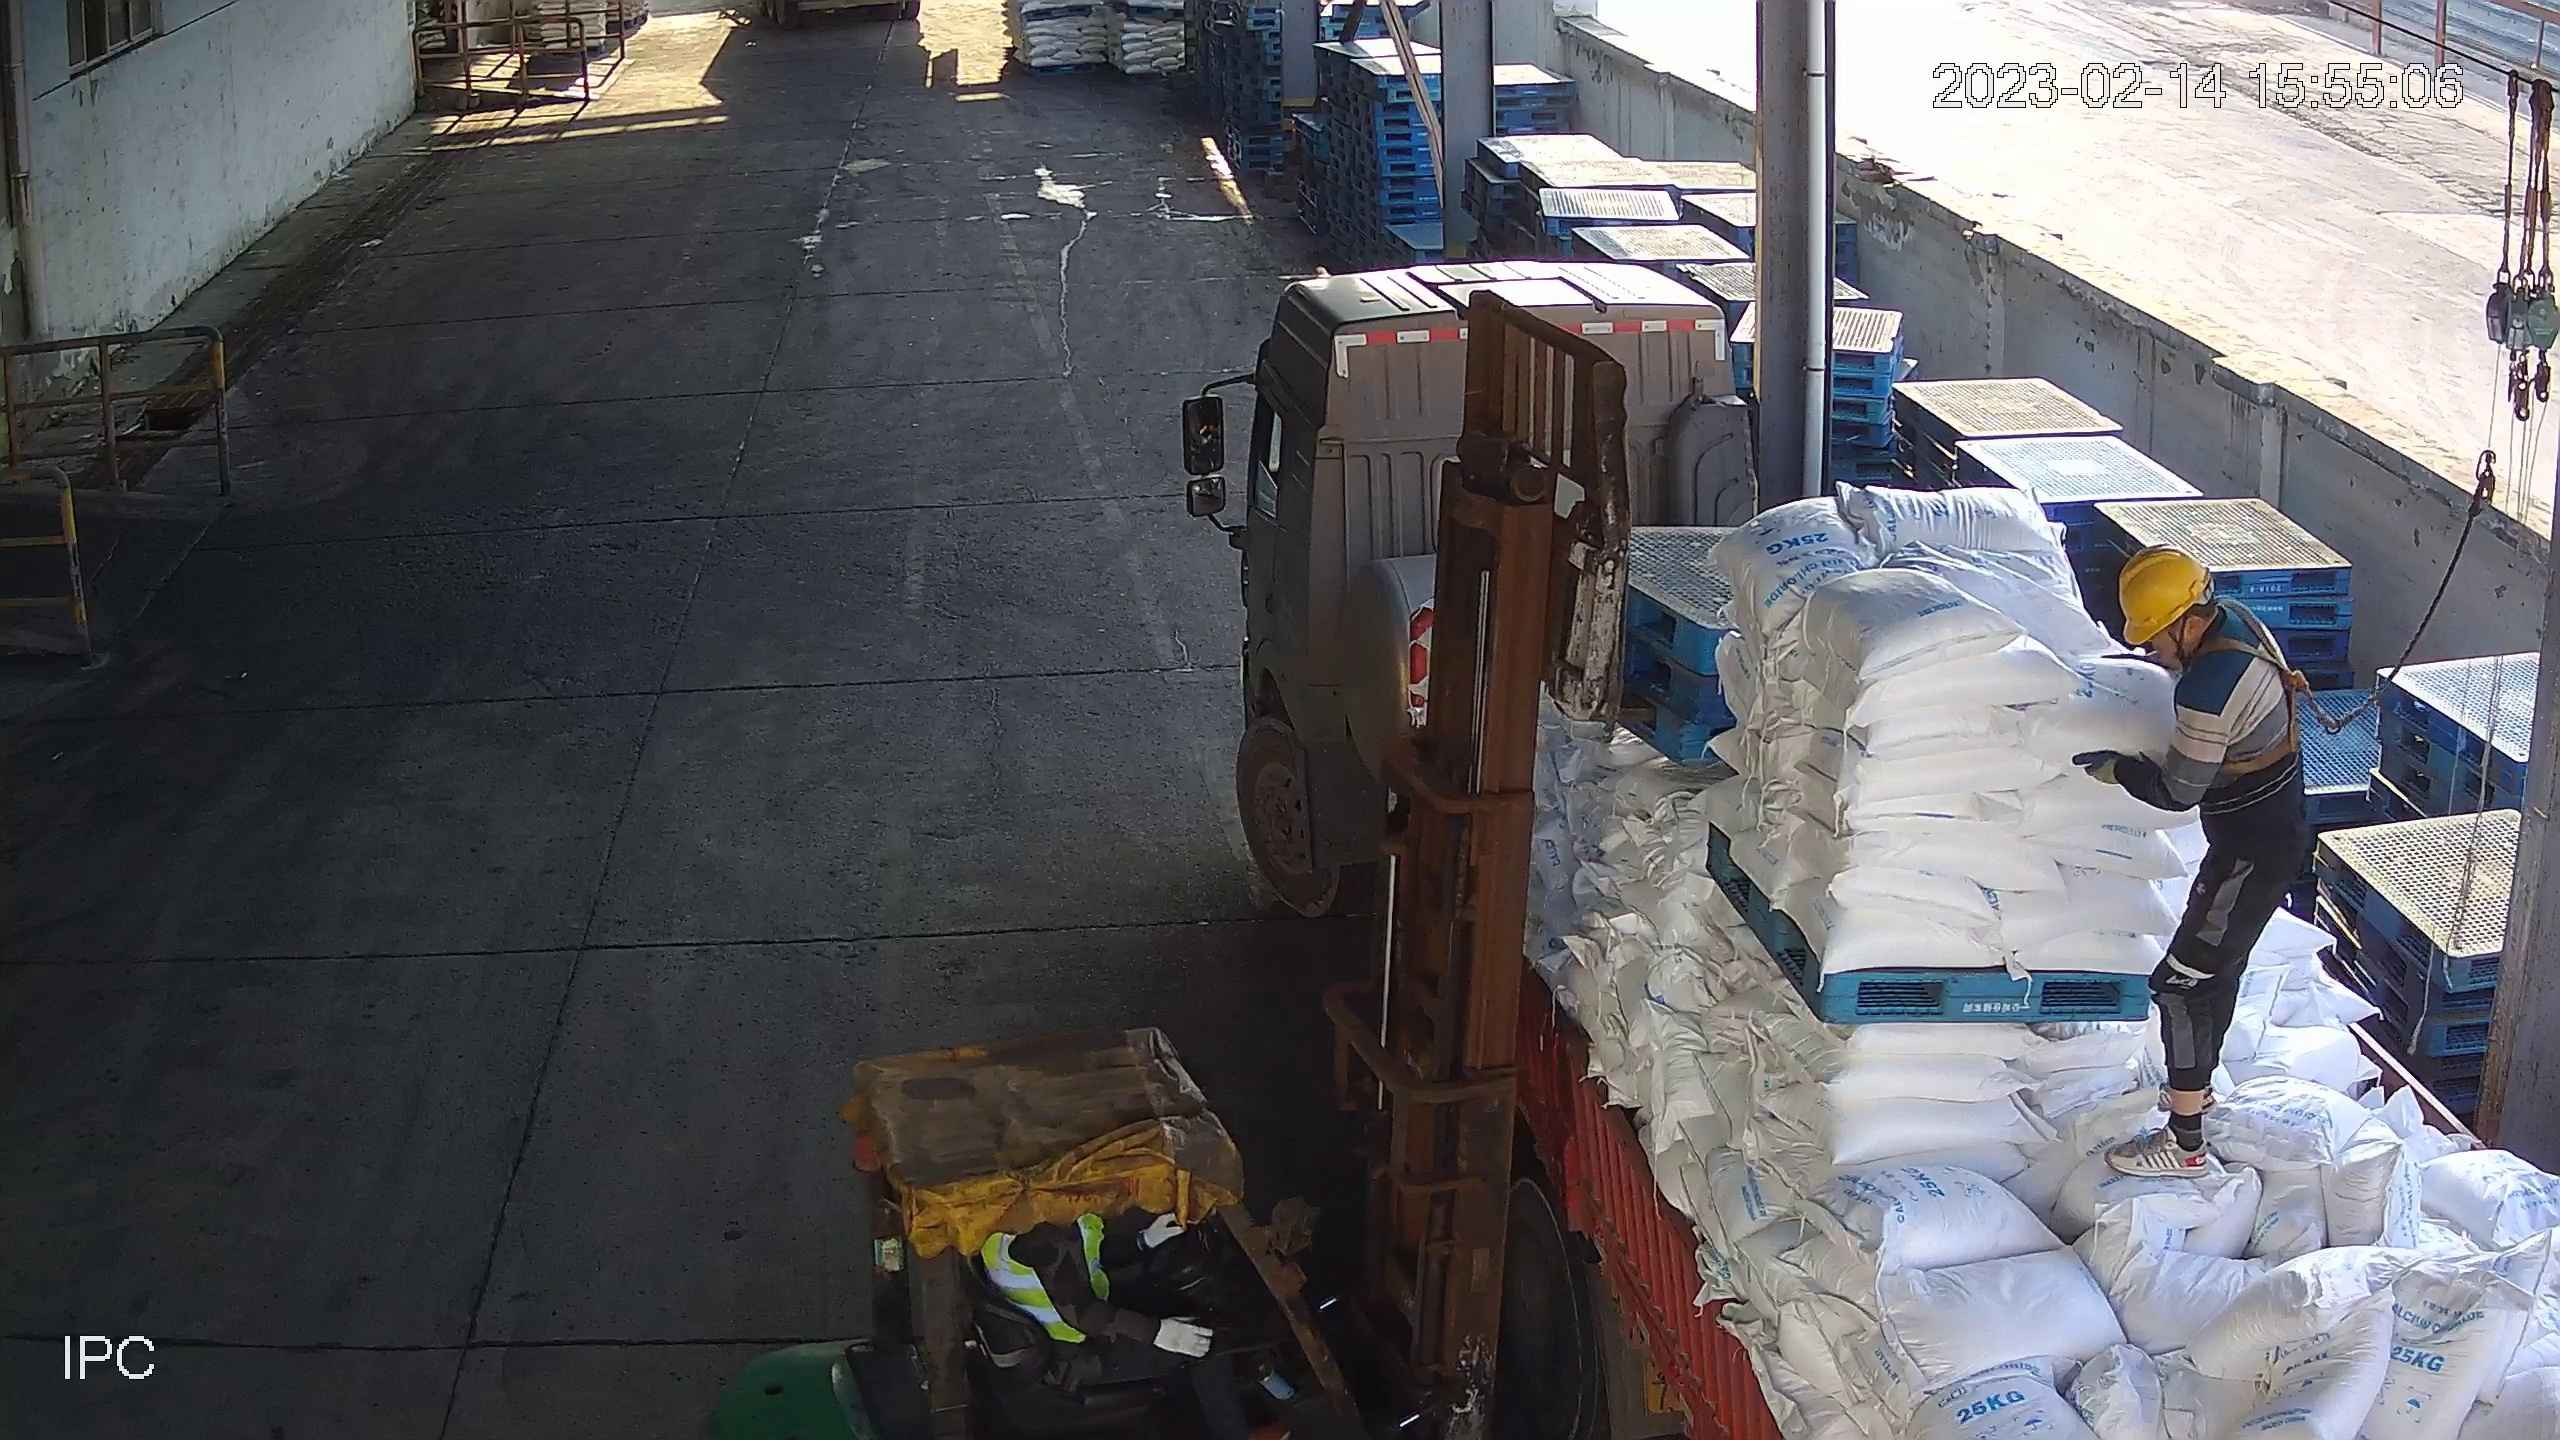belt: (2211, 609, 2327, 758)
head: (2095, 541, 2284, 713)
helmet: (2111, 544, 2218, 646)
people: (2076, 544, 2316, 1179)
truck: (1174, 262, 2560, 1440)
